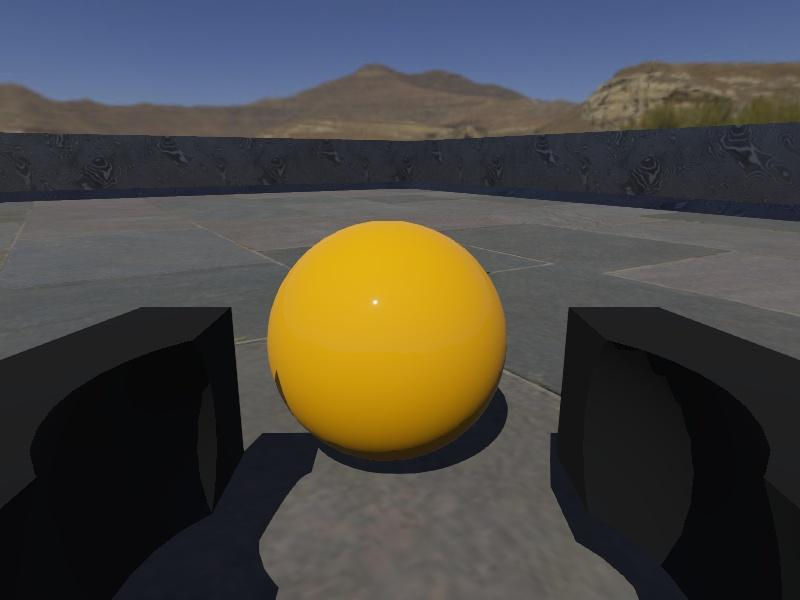orange ball: (265, 218, 508, 462)
